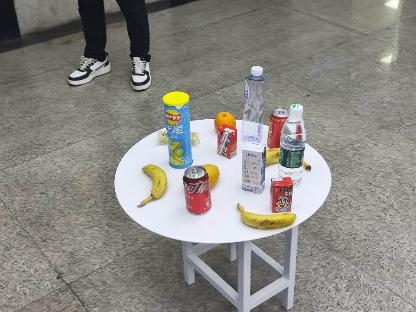Can: (182, 166, 214, 216)
Others: (162, 88, 193, 168), (237, 147, 266, 199), (271, 176, 297, 214), (216, 122, 237, 160)
Plastic Bottle: (282, 104, 309, 192), (239, 66, 265, 146)
